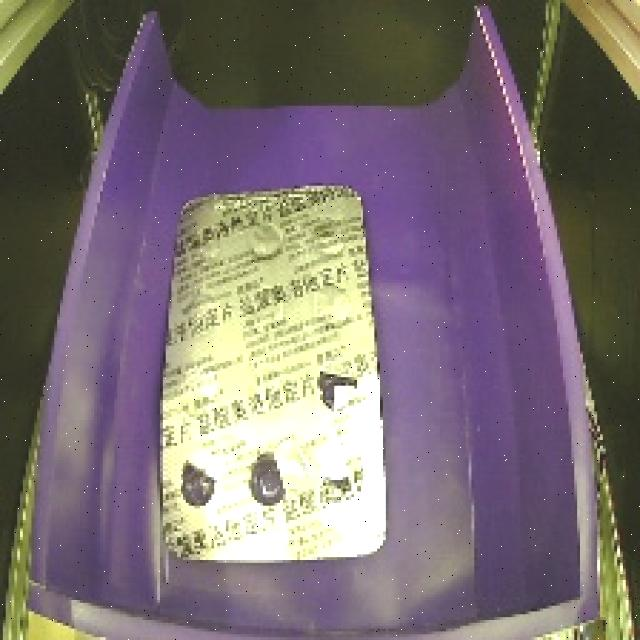med_plate: (139, 169, 403, 572)
